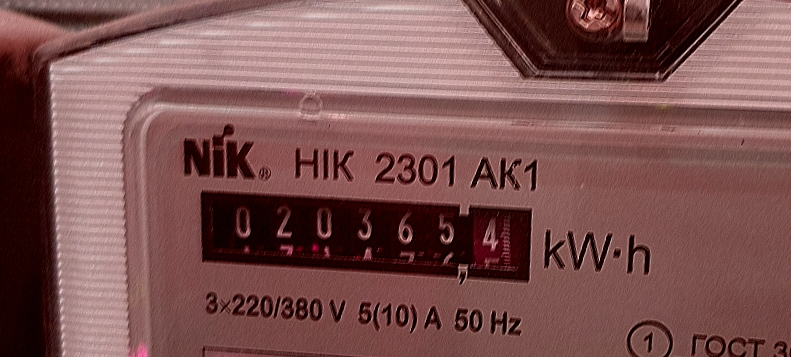0: (231, 202, 255, 238), (313, 203, 336, 240)
2: (271, 201, 296, 239)
3: (354, 204, 376, 240)
4: (480, 214, 502, 250)
5: (435, 210, 458, 244)
6: (394, 207, 417, 245)
screen: (178, 164, 555, 303)
